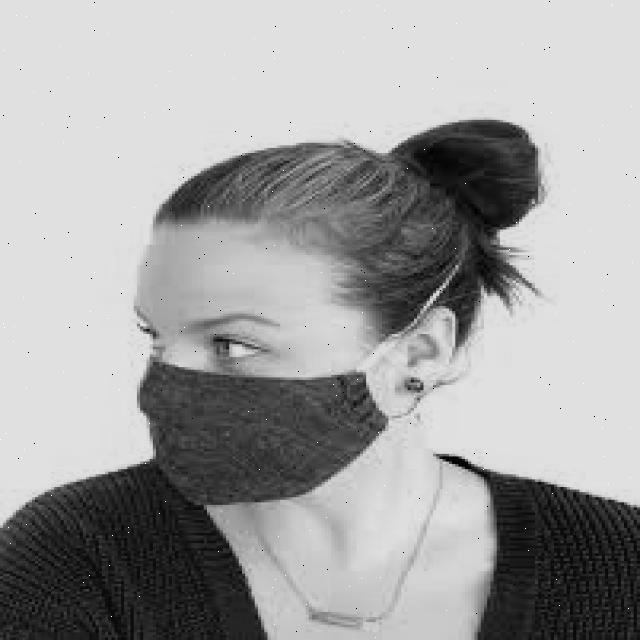fake: (73, 338, 422, 525)
real: (134, 223, 396, 518)
